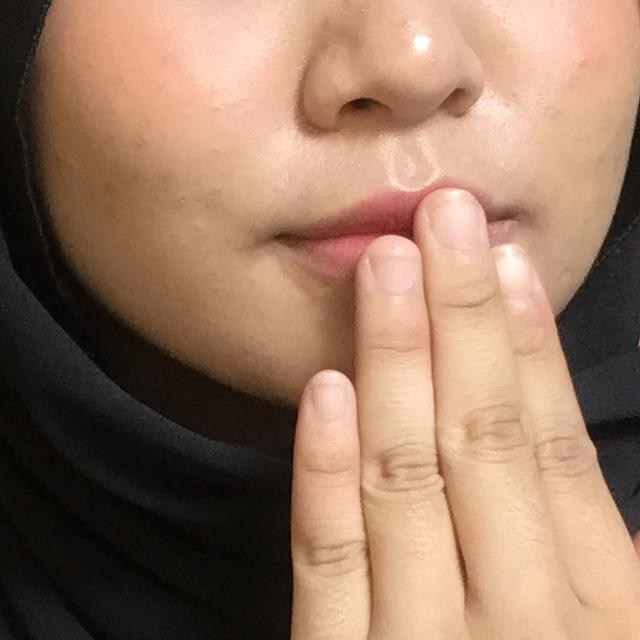ganteng: (130, 166, 640, 640)
